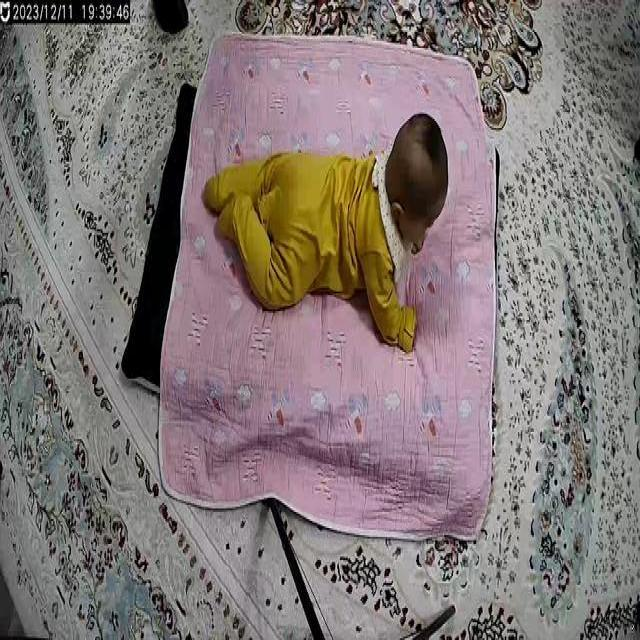baby: (199, 107, 455, 360)
